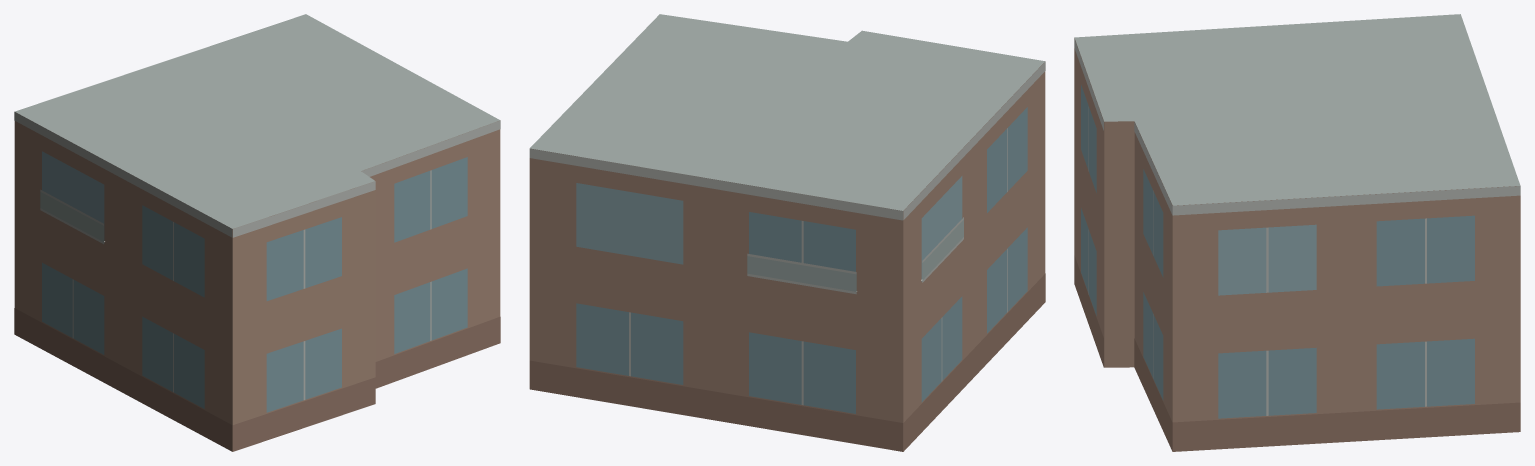
Rendered from survey-upis-32899226.glb.
3 renders of one model, left to right at view 1: azimuth 30°, elevation 25°; view 2: azimuth 150°, elevation 25°; view 3: azimuth 270°, elevation 25°, orthographic. The views are drawn at different scales.
Visible parts, largest first — view 1: survey-upis-32899226.tmp; view 2: survey-upis-32899226.tmp; view 3: survey-upis-32899226.tmp.
Boxes of the visible parts, left/top/right/bottom form: survey-upis-32899226.tmp: left=14, top=14, right=500, bottom=451; survey-upis-32899226.tmp: left=529, top=14, right=1045, bottom=451; survey-upis-32899226.tmp: left=1074, top=14, right=1520, bottom=451.
Size of the model in its own units: 10.2 by 6.1 by 10.03.
